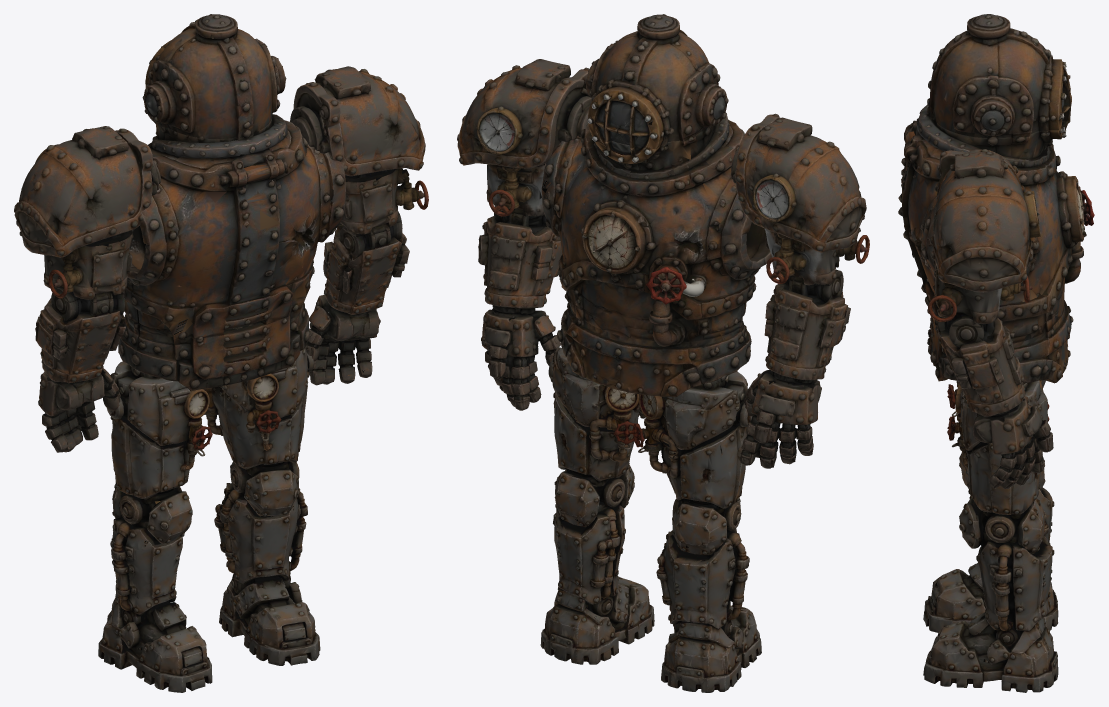
Rendered from Gear_T03.glb.
3 views of the same model, side by side, from view 1: azimuth 30°, elevation 25°; view 2: azimuth 150°, elevation 25°; view 3: azimuth 270°, elevation 25° (orthographic).
Visible parts, largest first — view 1: Torso_Upper, ArmL_Upper, ArmR_Upper, Head, LegL_Upper, Torso_Lower, LegR_Lower, LegL_Lower, LegR_Upper, LegL_Foot, LegR_Foot, ArmL_Lower (+3 smaller); view 2: Torso_Upper, ArmL_Upper, Head, ArmR_Upper, LegL_Upper, Torso_Lower, LegL_Lower, LegR_Lower, LegR_Upper, ArmL_Lower, ArmR_Lower, LegR_Foot (+3 smaller); view 3: Torso_Upper, ArmR_Upper, Head, LegR_Lower, LegR_Foot, ArmR_Lower, LegR_Upper, ArmR_Hand, Torso_Lower, LegL_Foot, LegL_Lower.
Part boxes in pixels (x1,y1,x2,y2): Torso_Upper: (123,114,345,339); ArmL_Upper: (14,126,161,302); ArmR_Upper: (290,66,428,236); Head: (142,14,286,139); LegL_Upper: (107,361,212,497); Torso_Lower: (118,303,309,390); LegR_Lower: (214,460,307,586); LegL_Lower: (110,484,192,614); LegR_Upper: (204,346,313,468); LegL_Foot: (98,598,212,692); LegR_Foot: (219,574,320,665); ArmL_Lower: (35,293,125,383); Torso_Upper: (541,112,771,346); ArmL_Upper: (731,113,869,285); Head: (585,14,728,149); ArmR_Upper: (457,59,591,216); LegL_Upper: (632,371,751,507); Torso_Lower: (557,302,751,396); LegL_Lower: (656,498,749,630); LegR_Lower: (553,463,634,604); LegR_Upper: (548,347,645,479); ArmL_Lower: (759,275,850,388); ArmR_Lower: (478,207,562,324); LegR_Foot: (540,577,654,664); Torso_Upper: (898,105,1094,343); ArmR_Upper: (928,149,1040,327); Head: (926,14,1071,139); LegR_Lower: (959,496,1054,630); LegR_Foot: (923,612,1058,692); ArmR_Lower: (934,311,1027,416); LegR_Upper: (947,380,1049,514); ArmR_Hand: (972,398,1053,488); Torso_Lower: (927,300,1073,383); LegL_Foot: (923,562,1058,632); LegL_Lower: (959,452,1054,545).
Size of the model in its own units: 3.99 by 6.25 by 1.76.
3 materials, 3 textured.
